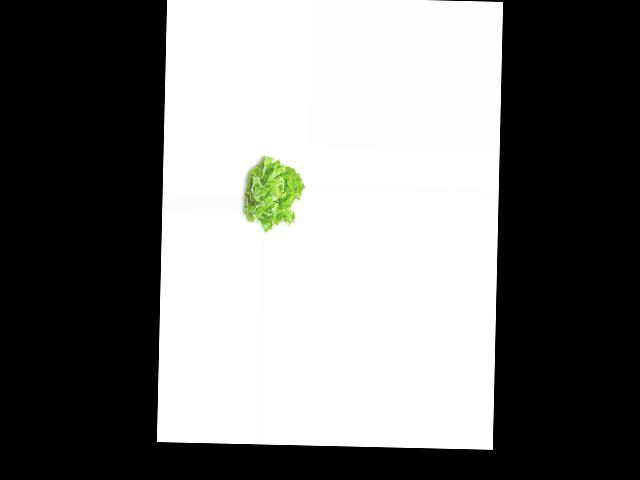lettuce: (241, 157, 305, 232)
